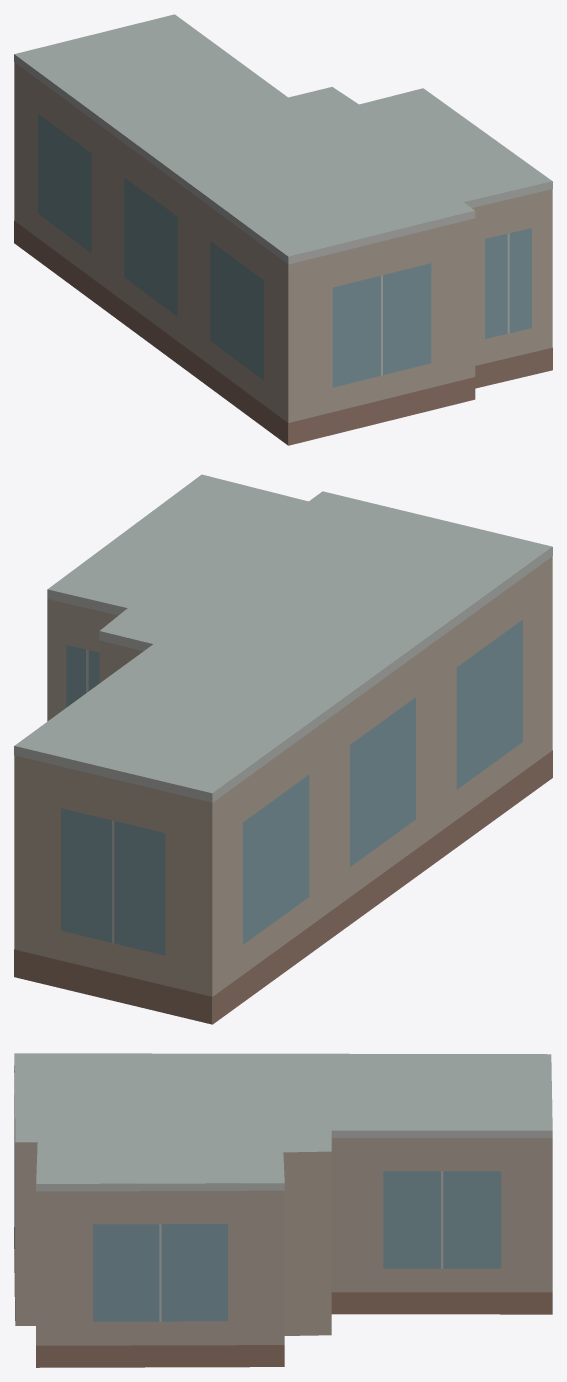
Rendered from survey-upis-32843313.glb.
The picture shows the model from 3 angles, top to bottom: view 1: azimuth 30°, elevation 25°; view 2: azimuth 150°, elevation 25°; view 3: azimuth 270°, elevation 25°; orthographic projection. The views are drawn at different scales.
Parts seen in each view (by area): view 1: survey-upis-32843313.tmp; view 2: survey-upis-32843313.tmp; view 3: survey-upis-32843313.tmp.
Part boxes in pixels (bbox=[...]): survey-upis-32843313.tmp: bbox=[14, 14, 552, 445]; survey-upis-32843313.tmp: bbox=[14, 474, 552, 1024]; survey-upis-32843313.tmp: bbox=[14, 1053, 552, 1367].
Size of the model in its own units: 7.03 by 4.6 by 12.23.
